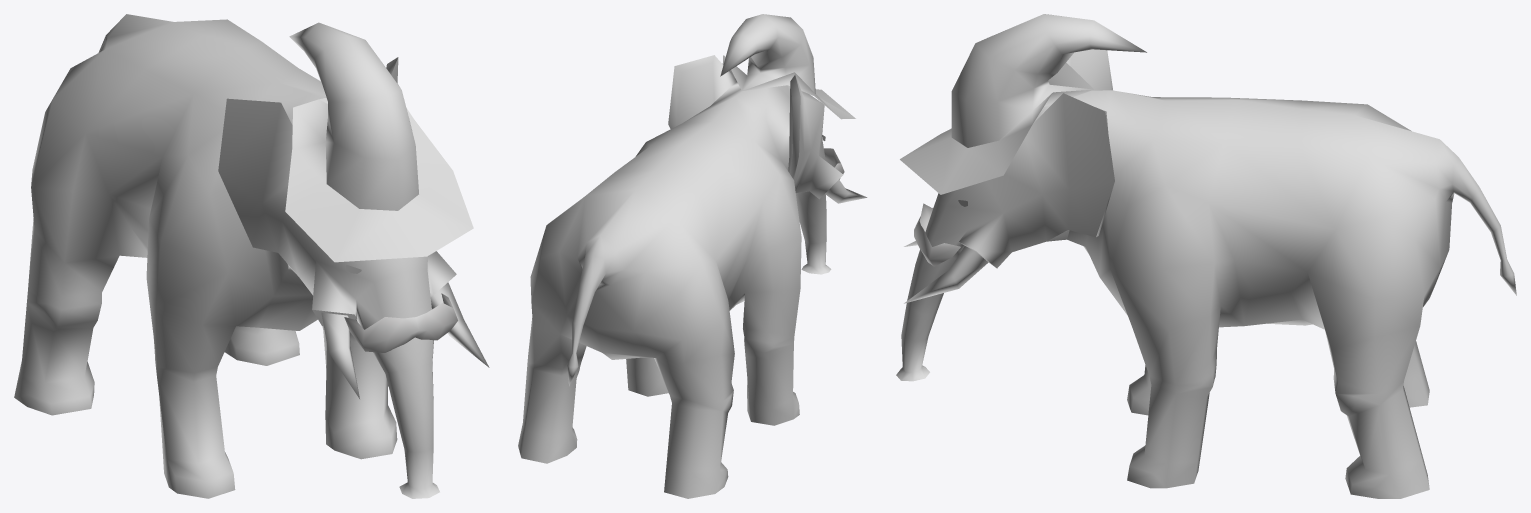
The model's file is elefante (1).fbx.
3 views of the same model, side by side, from view 1: azimuth 30°, elevation 25°; view 2: azimuth 150°, elevation 25°; view 3: azimuth 270°, elevation 25° (orthographic). The views are drawn at different scales.
Visible parts, largest first — view 1: Elefante_mago; view 2: Elefante_mago; view 3: Elefante_mago.
Boxes of the visible parts, bbox=[...] form: Elefante_mago: bbox=[14, 14, 489, 498]; Elefante_mago: bbox=[518, 14, 867, 498]; Elefante_mago: bbox=[896, 14, 1516, 498].
Bounding box in the file's own units: 2.77 × 4.68 × 6.18.
